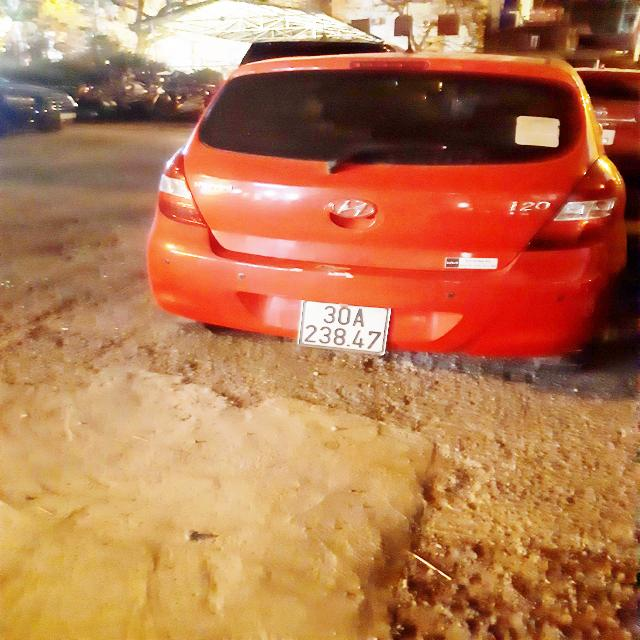license_plate: (292, 295, 401, 364)
